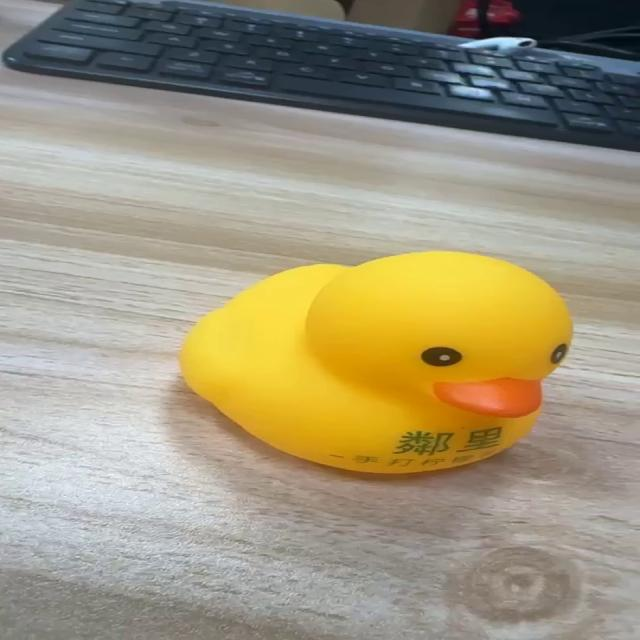yellow_duck: (176, 248, 574, 474)
